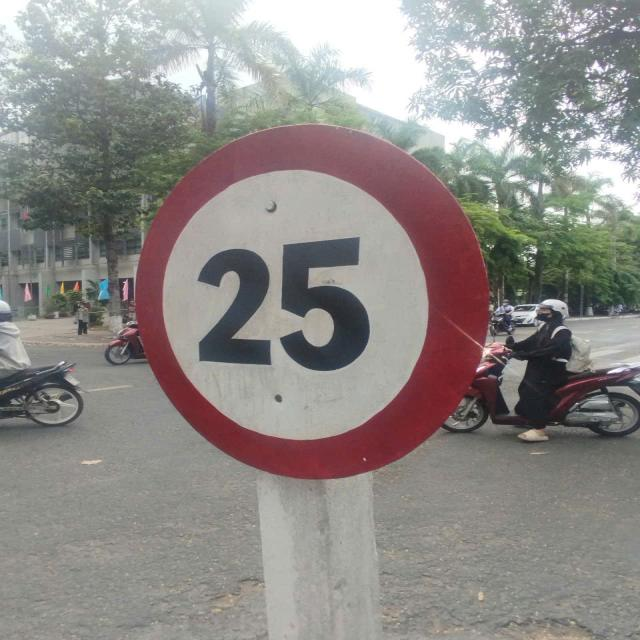Tre_Em: (132, 123, 491, 478)
